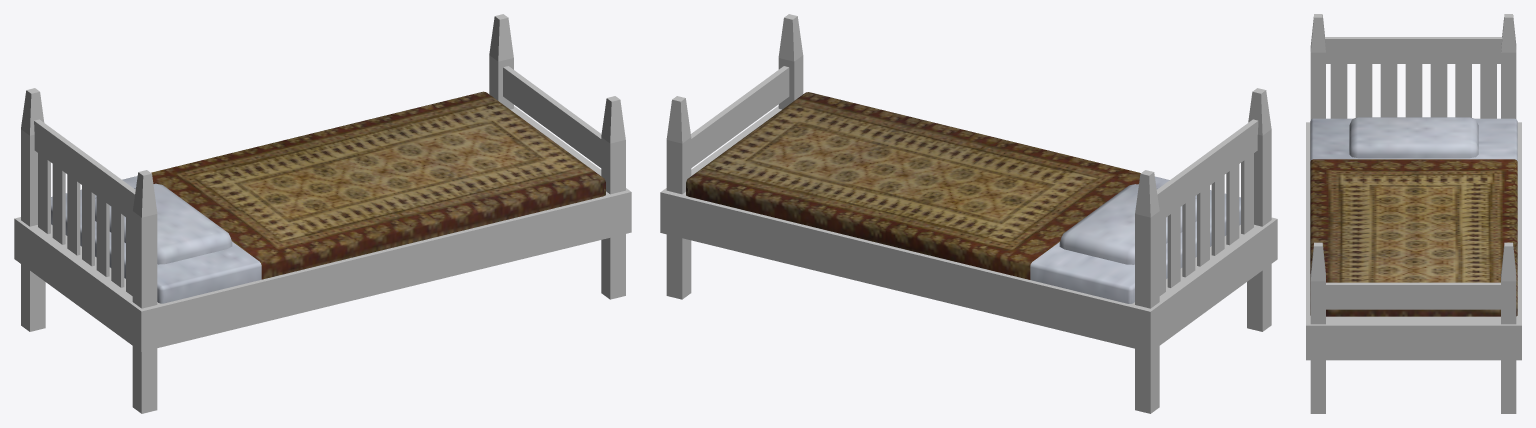
The model's file is MS_Bed_1.fbx.
3 renders of one model, left to right at view 1: azimuth 30°, elevation 25°; view 2: azimuth 150°, elevation 25°; view 3: azimuth 270°, elevation 25°, orthographic. The views are drawn at different scales.
Parts seen in each view (by area): view 1: MSH_Bed; view 2: MSH_Bed; view 3: MSH_Bed.
Boxes of the visible parts, left/top/right/bottom form: MSH_Bed: left=14, top=14, right=631, bottom=413; MSH_Bed: left=660, top=14, right=1277, bottom=413; MSH_Bed: left=1306, top=14, right=1521, bottom=413.
Bounding box in the file's own units: 200 × 91.8 × 89.58.
